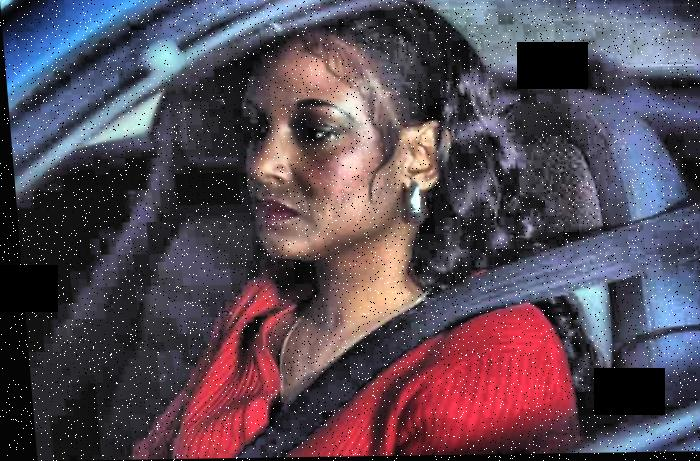seatbelt: (228, 191, 700, 432)
